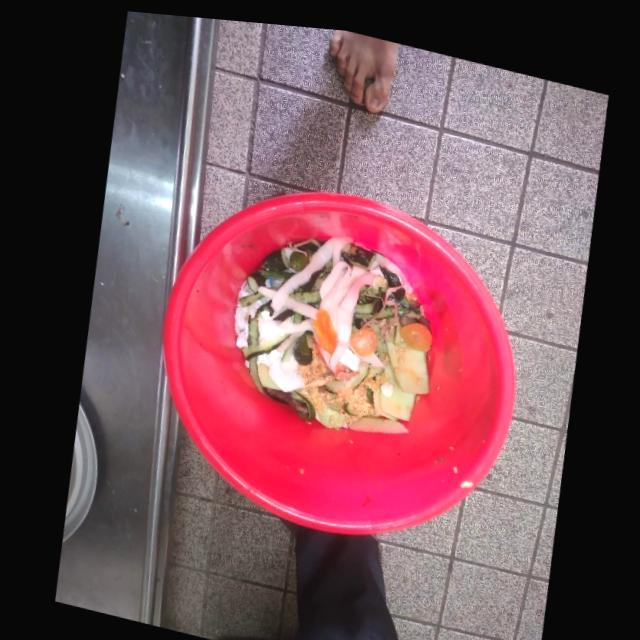biowaste: (268, 230, 351, 307), (315, 254, 371, 357), (255, 310, 332, 367), (377, 301, 427, 387), (240, 317, 288, 393), (370, 345, 413, 414), (365, 245, 411, 290), (255, 282, 314, 314), (265, 350, 303, 387), (309, 301, 336, 349), (322, 360, 367, 386), (340, 410, 406, 427), (386, 286, 423, 312), (399, 315, 429, 344), (347, 321, 374, 351), (356, 272, 385, 299), (339, 238, 373, 260), (346, 339, 381, 360), (290, 327, 309, 360), (259, 248, 287, 266), (353, 291, 379, 308), (378, 260, 399, 280), (336, 346, 357, 366), (244, 268, 264, 288), (287, 245, 306, 266), (289, 285, 319, 297), (294, 239, 321, 248), (390, 278, 403, 296)
